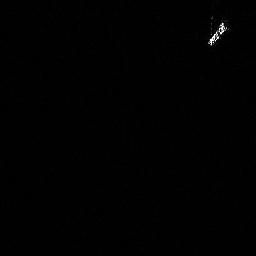ship: (208, 15, 229, 47)
